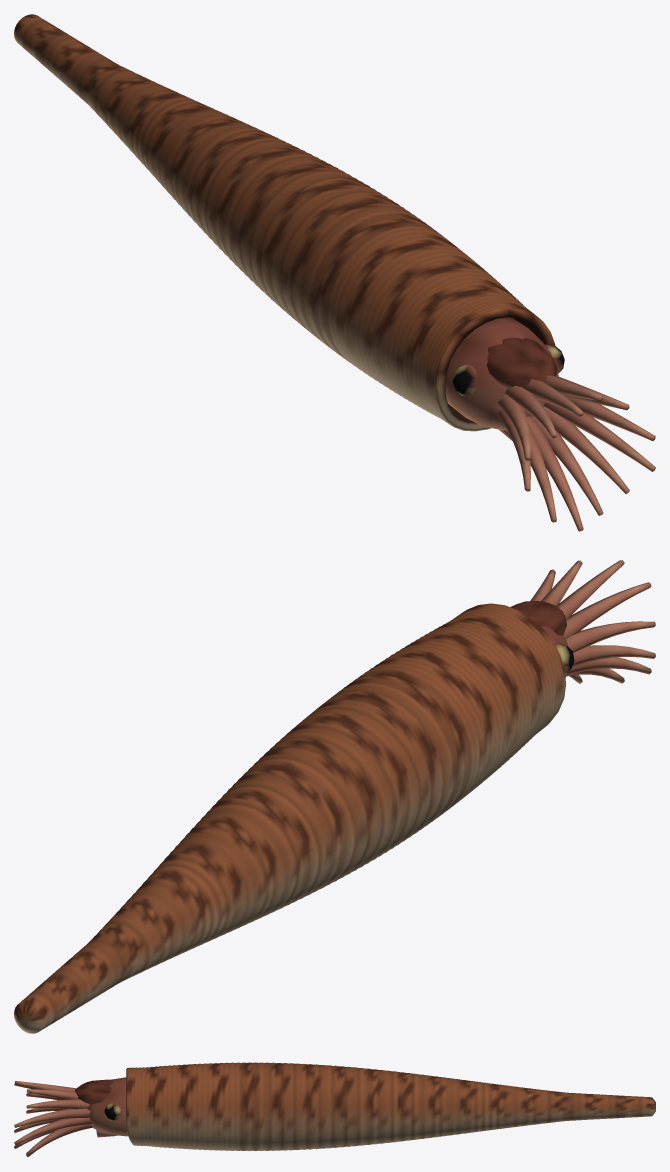
Rendered from ActinocerasBigsbyi.fbx.
3 renders of one model, top to bottom at view 1: azimuth 30°, elevation 25°; view 2: azimuth 150°, elevation 25°; view 3: azimuth 270°, elevation 25°, orthographic. The views are drawn at different scales.
Visible parts, largest first — view 1: ActinocerasBigsbyi; view 2: ActinocerasBigsbyi; view 3: ActinocerasBigsbyi.
Boxes of the visible parts, <box> form: ActinocerasBigsbyi: <box>14,14,655,531</box>; ActinocerasBigsbyi: <box>14,560,655,1033</box>; ActinocerasBigsbyi: <box>14,1062,655,1156</box>.
Bounding box in the file's own units: 0.2848 × 0.3068 × 2.06.
